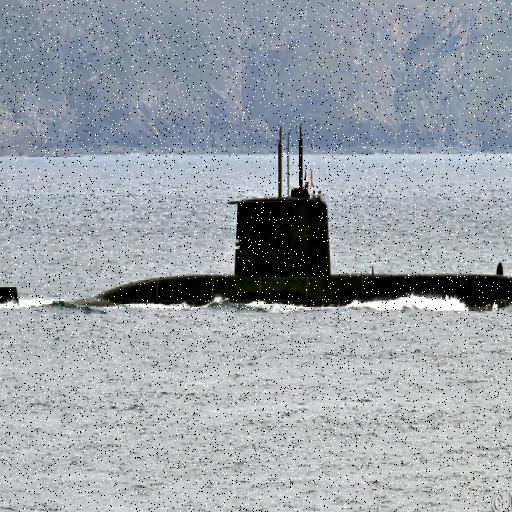submarine: (1, 128, 512, 311)
